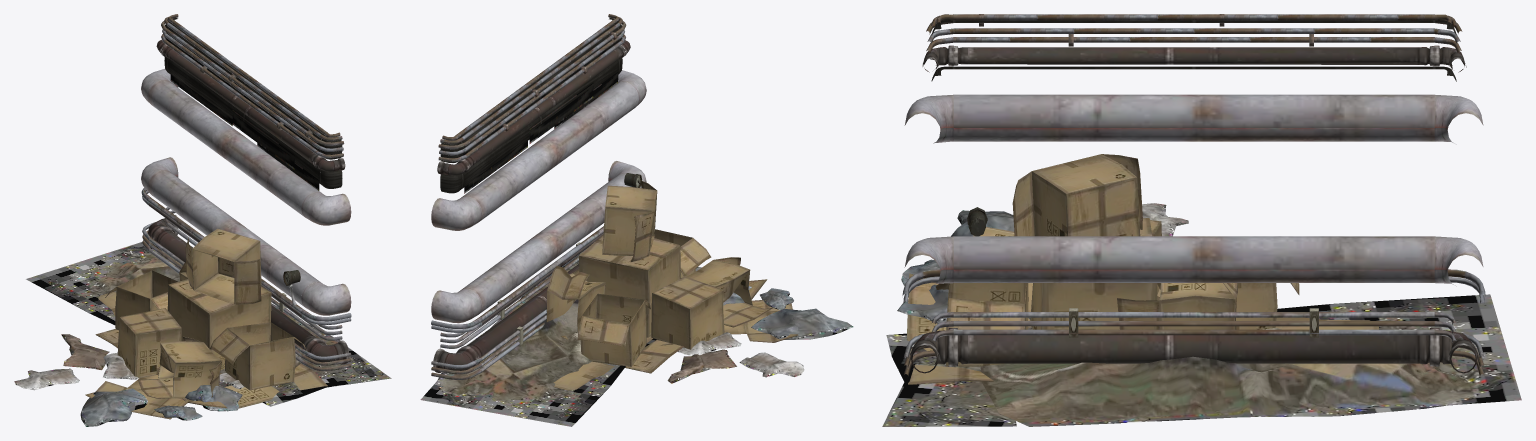
File: underwaterlab_dwelling_300_edge_b.glb
3 views of the same model, side by side, from view 1: azimuth 30°, elevation 25°; view 2: azimuth 150°, elevation 25°; view 3: azimuth 270°, elevation 25° (orthographic). The views are drawn at different scales.
Parts seen in each view (by area): view 1: cardboard_box_pile_a, submarine_greeble_300x200_02_LOD0, junk_pile_straight_b (3), submarine_greeble_300x200_02_outercorner_01_LOD0, ground_cloth_a (11), submarine_greeble_300x200_02_outercorner_02_LOD0; view 2: submarine_greeble_300x200_02_LOD0, cardboard_box_pile_a, junk_pile_straight_b (3), submarine_greeble_300x200_02_outercorner_02_LOD0, ground_cloth_a (11), submarine_greeble_300x200_02_outercorner_01_LOD0; view 3: submarine_greeble_300x200_02_LOD0, junk_pile_straight_b (3), cardboard_box_pile_a, submarine_greeble_300x200_02_outercorner_02_LOD0, submarine_greeble_300x200_02_outercorner_01_LOD0, ground_cloth_a (11).
Boxes of the visible parts, bbox=[...] form: cardboard_box_pile_a: bbox=[85, 228, 327, 419]; submarine_greeble_300x200_02_LOD0: bbox=[148, 20, 325, 363]; junk_pile_straight_b (3): bbox=[26, 241, 391, 406]; submarine_greeble_300x200_02_outercorner_01_LOD0: bbox=[301, 131, 351, 371]; ground_cloth_a (11): bbox=[14, 334, 244, 426]; submarine_greeble_300x200_02_outercorner_02_LOD0: bbox=[141, 14, 178, 251]; submarine_greeble_300x200_02_LOD0: bbox=[457, 20, 642, 371]; cardboard_box_pile_a: bbox=[546, 180, 798, 390]; junk_pile_straight_b (3): bbox=[420, 258, 701, 426]; submarine_greeble_300x200_02_outercorner_02_LOD0: bbox=[431, 134, 482, 379]; ground_cloth_a (11): bbox=[667, 286, 853, 383]; submarine_greeble_300x200_02_outercorner_01_LOD0: bbox=[608, 14, 646, 188]; submarine_greeble_300x200_02_LOD0: bbox=[953, 14, 1434, 366]; junk_pile_straight_b (3): bbox=[882, 294, 1521, 426]; cardboard_box_pile_a: bbox=[906, 154, 1378, 384]; submarine_greeble_300x200_02_outercorner_02_LOD0: bbox=[1434, 14, 1485, 375]; submarine_greeble_300x200_02_outercorner_01_LOD0: bbox=[902, 14, 953, 376]; ground_cloth_a (11): bbox=[897, 203, 1188, 323].
Size of the model in its own units: 2.69 by 2.26 by 3.25.
5 materials, 5 textured.
